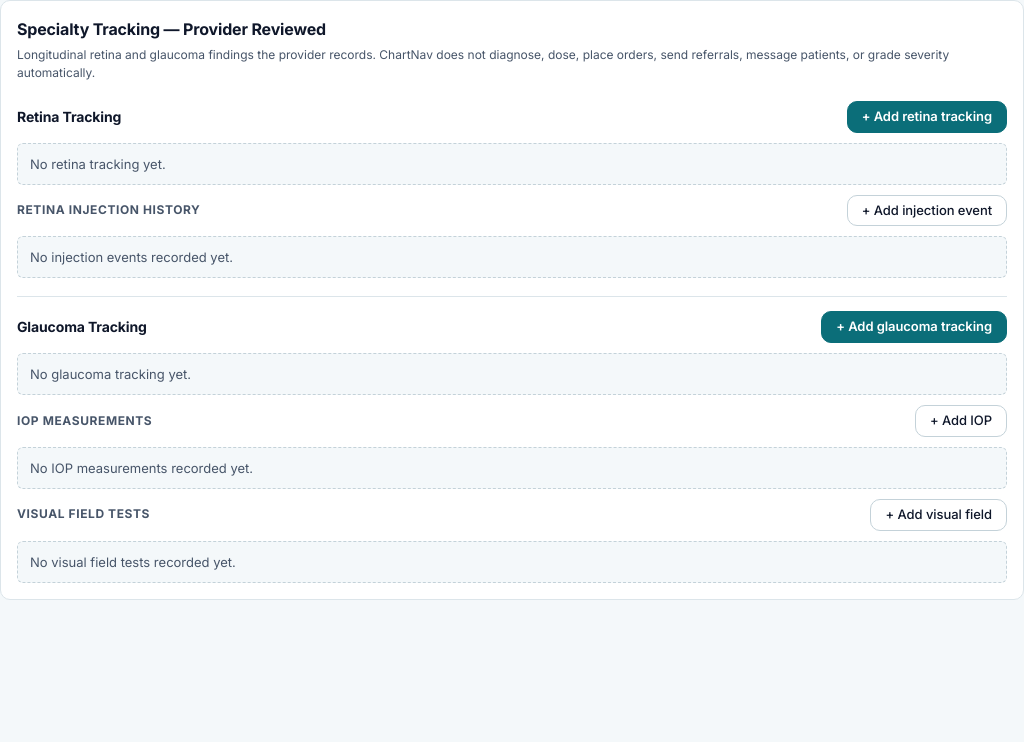
SpecialtyTrackingPanel — retina create flow › submits and refreshes
Check: the text "No retina tracking yet." is shown, box [17, 143, 1007, 185]
Click the button with test id "retina-add" at [927, 117], box [847, 101, 1007, 133]
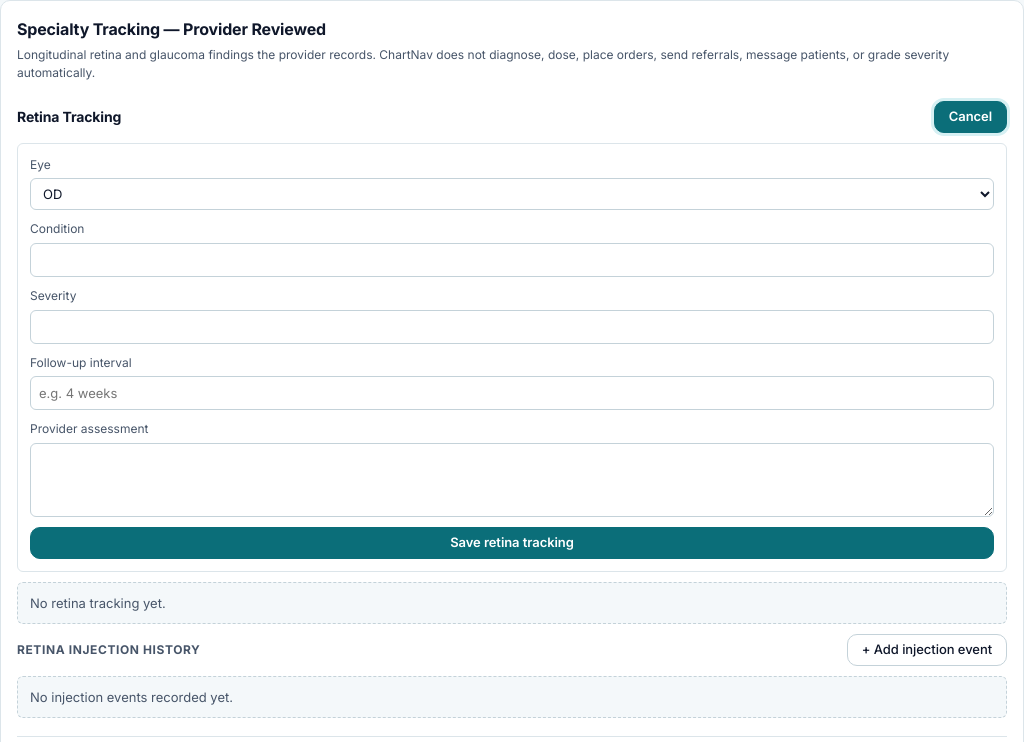
Check: the form with test id "retina-create-form" is shown, box [17, 143, 1007, 572]
Type "diabetic retinopathy" into the field with test id "retina-create-condition" at [512, 260], box [30, 243, 994, 277]
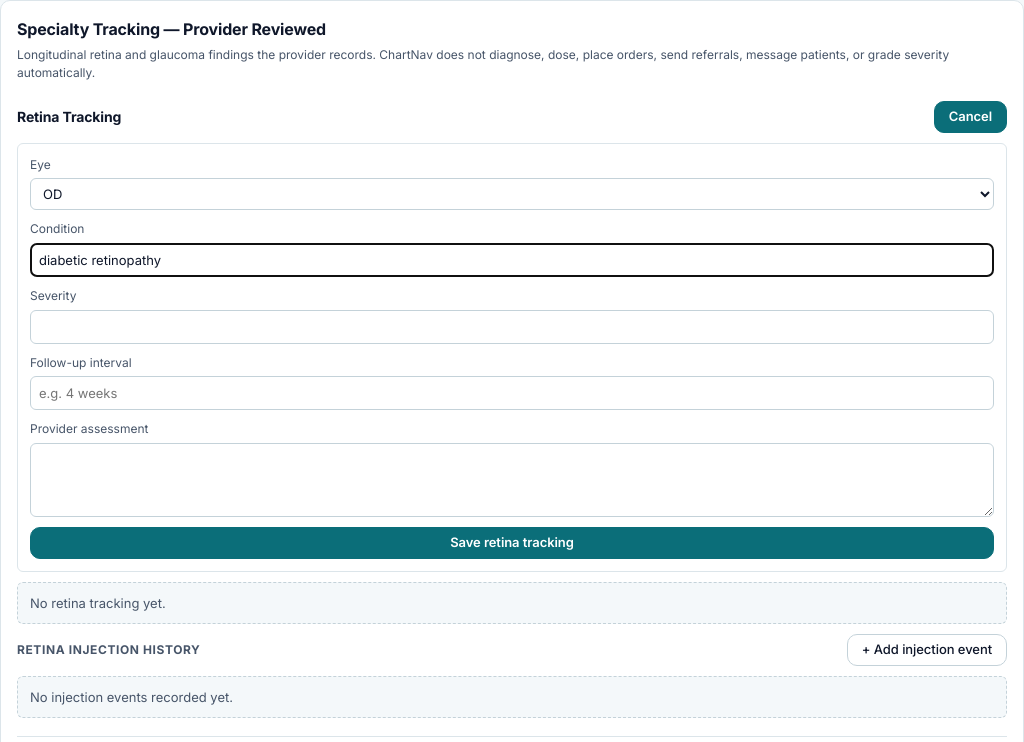
Type "moderate" into the field with test id "retina-create-severity" at [512, 327], box [30, 310, 994, 344]
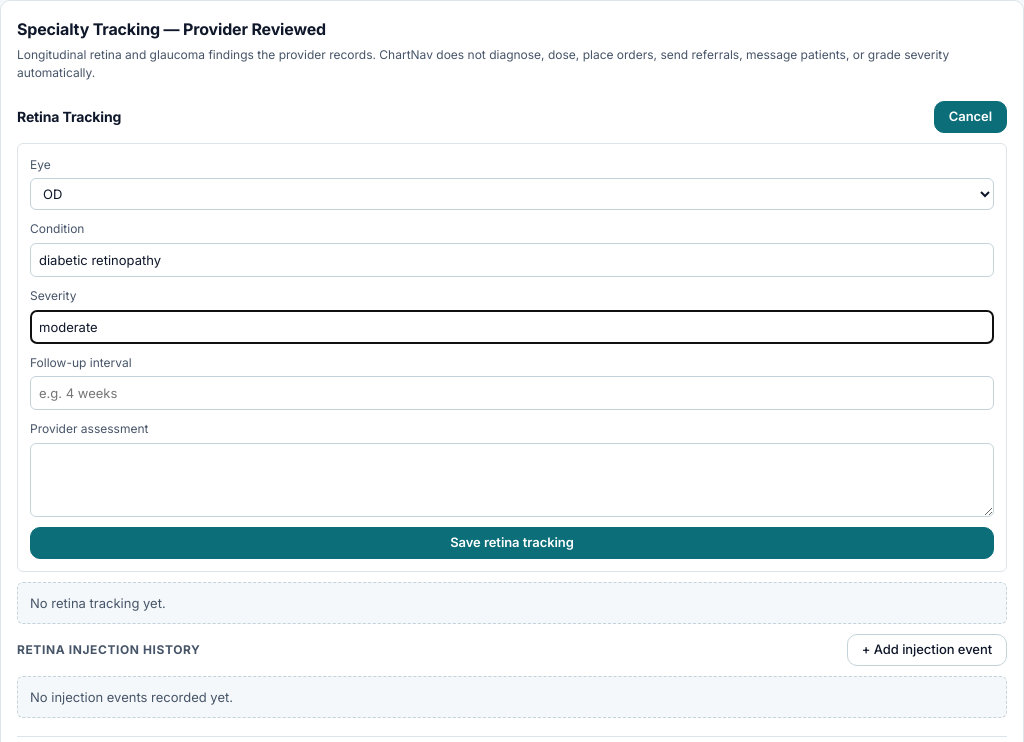
Click the button with test id "retina-create-submit" at [512, 543], box [30, 527, 994, 559]
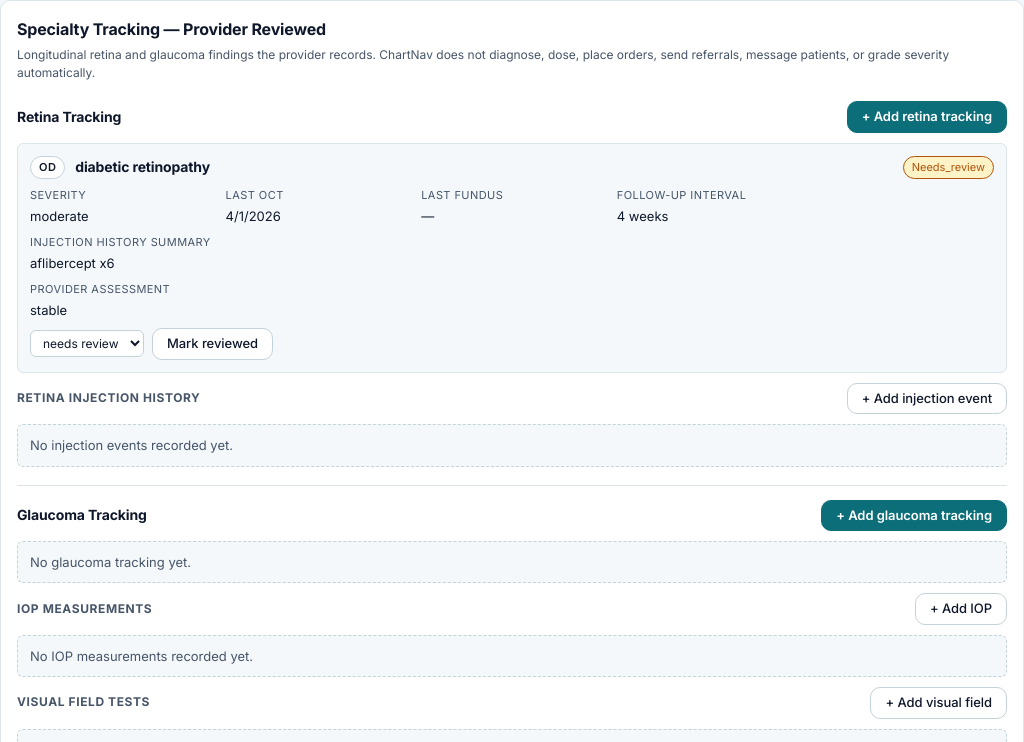
Check: the heading "diabetic retinopathy" is shown, box [75, 158, 210, 175]
Check: the text "moderate" is shown, box [30, 208, 89, 224]
